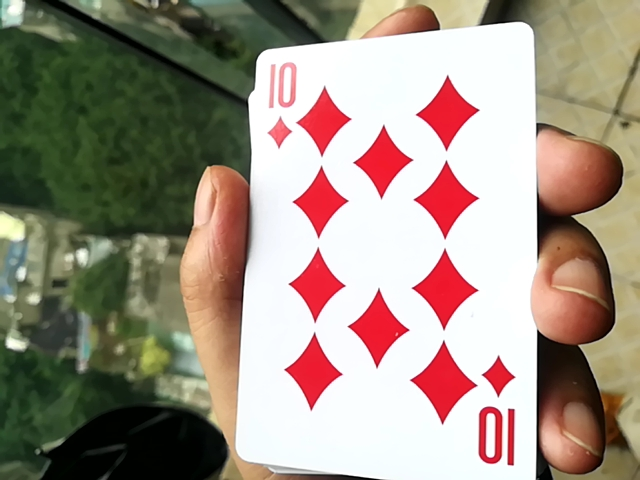fk 10: (240, 29, 546, 478)
